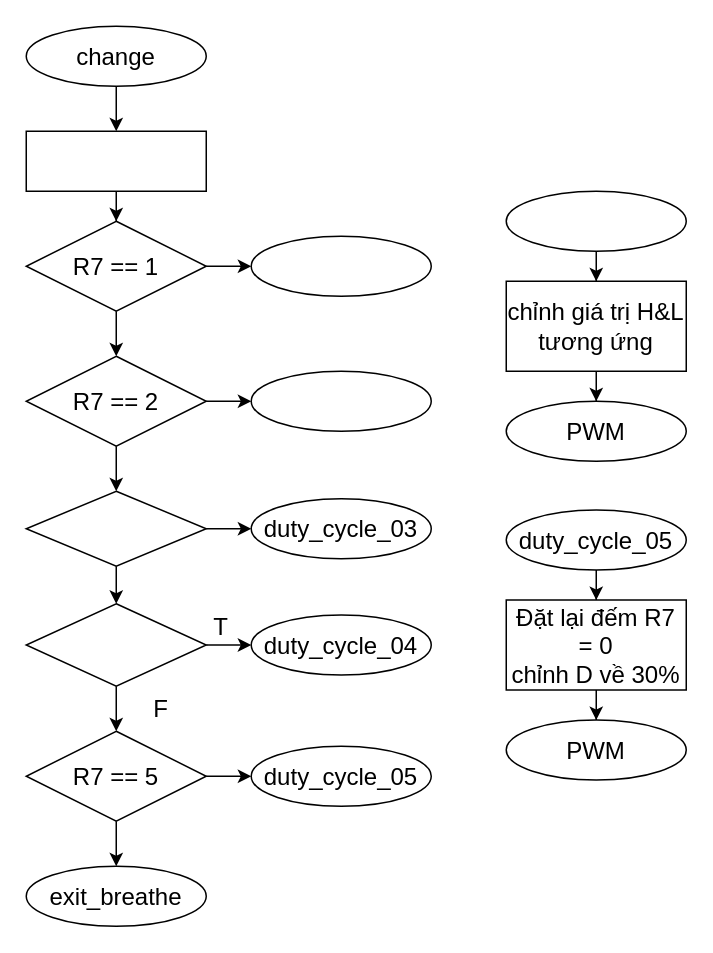
This 713x953 diagram has some shape labels left out. Here are the shapes that lost their labels. From the top down, the box of each, then its label:
(25, 130, 206, 191): Đếm: R7++
(505, 190, 686, 251): duty_cycle_0x
(250, 235, 431, 296): duty_cycle_01
(250, 370, 431, 431): duty_cycle_02
(25, 490, 206, 566): R7 == 3
(25, 602, 206, 686): R7 == 4
